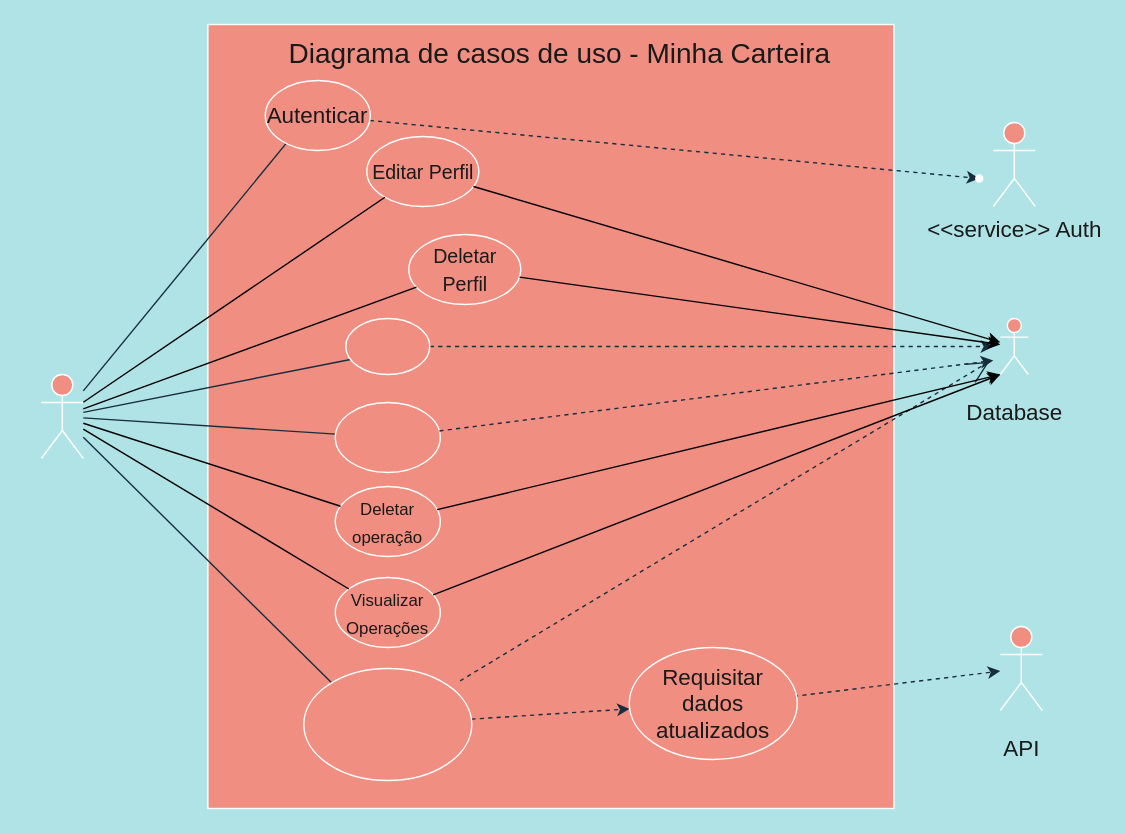
This 1126x833 diagram has some shape labels left out. Each missing label, with the centre of its shape:
Adicionar operação: point (387, 345)
Editar operação: point (387, 436)
Usuário: point (61, 415)
Visualizar Portfolio: point (387, 723)
